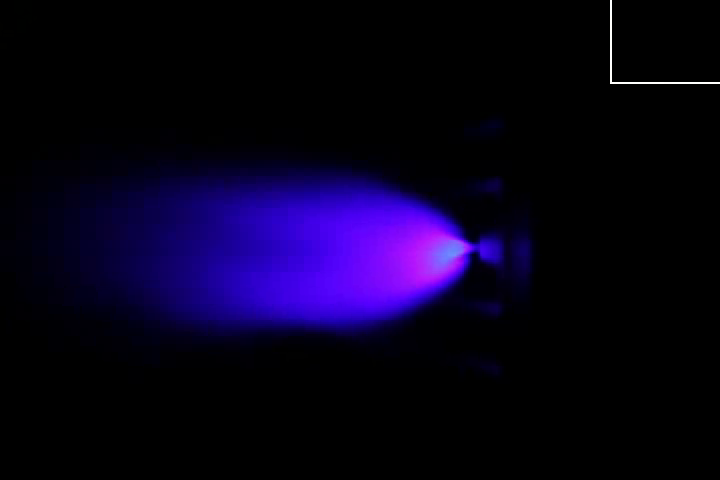burner cap: (473, 231, 509, 276)
stable: (344, 208, 482, 302)
